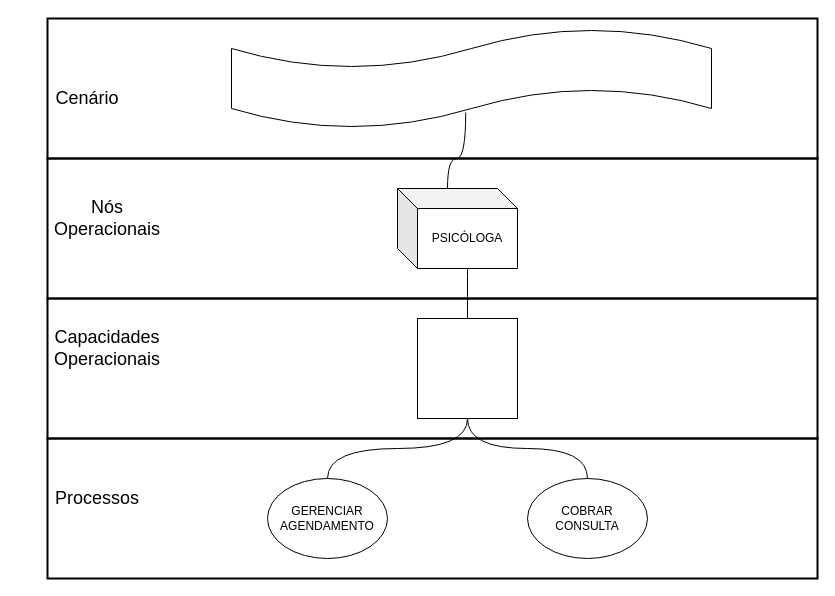
Image size: 835x596. Some labels were removed from this diagram. The shapes that lost their labels are listed below. From the top down, each one's box as (x1, y1, x2, y2) in pixels, then its label:
(230, 28, 712, 128): CONSULTÓRIO
(416, 318, 518, 418): REALIZAR CONSULTA
